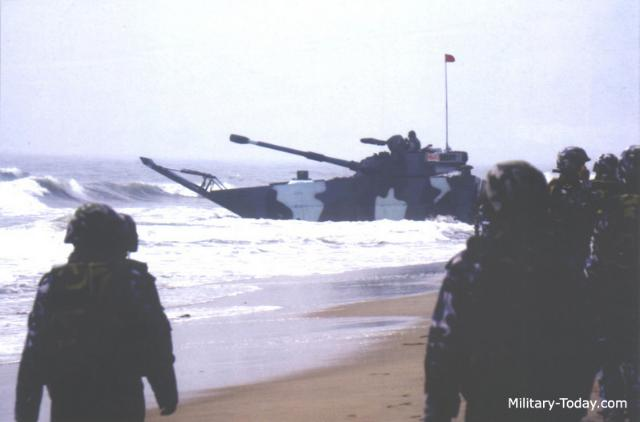other: (432, 160, 592, 420), (18, 206, 180, 420), (548, 142, 588, 216)
tank: (205, 143, 480, 217)
